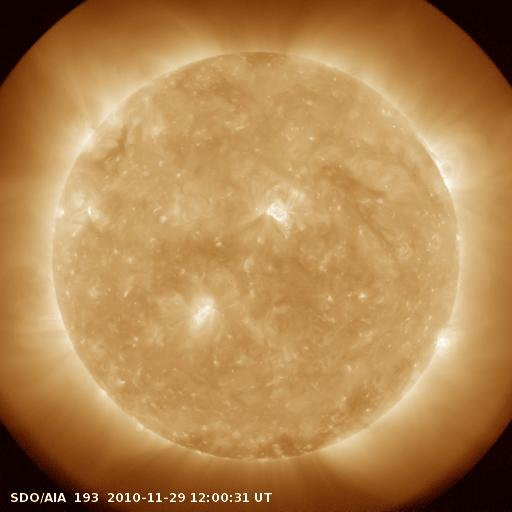coronal_hole: (243, 427, 326, 459)
